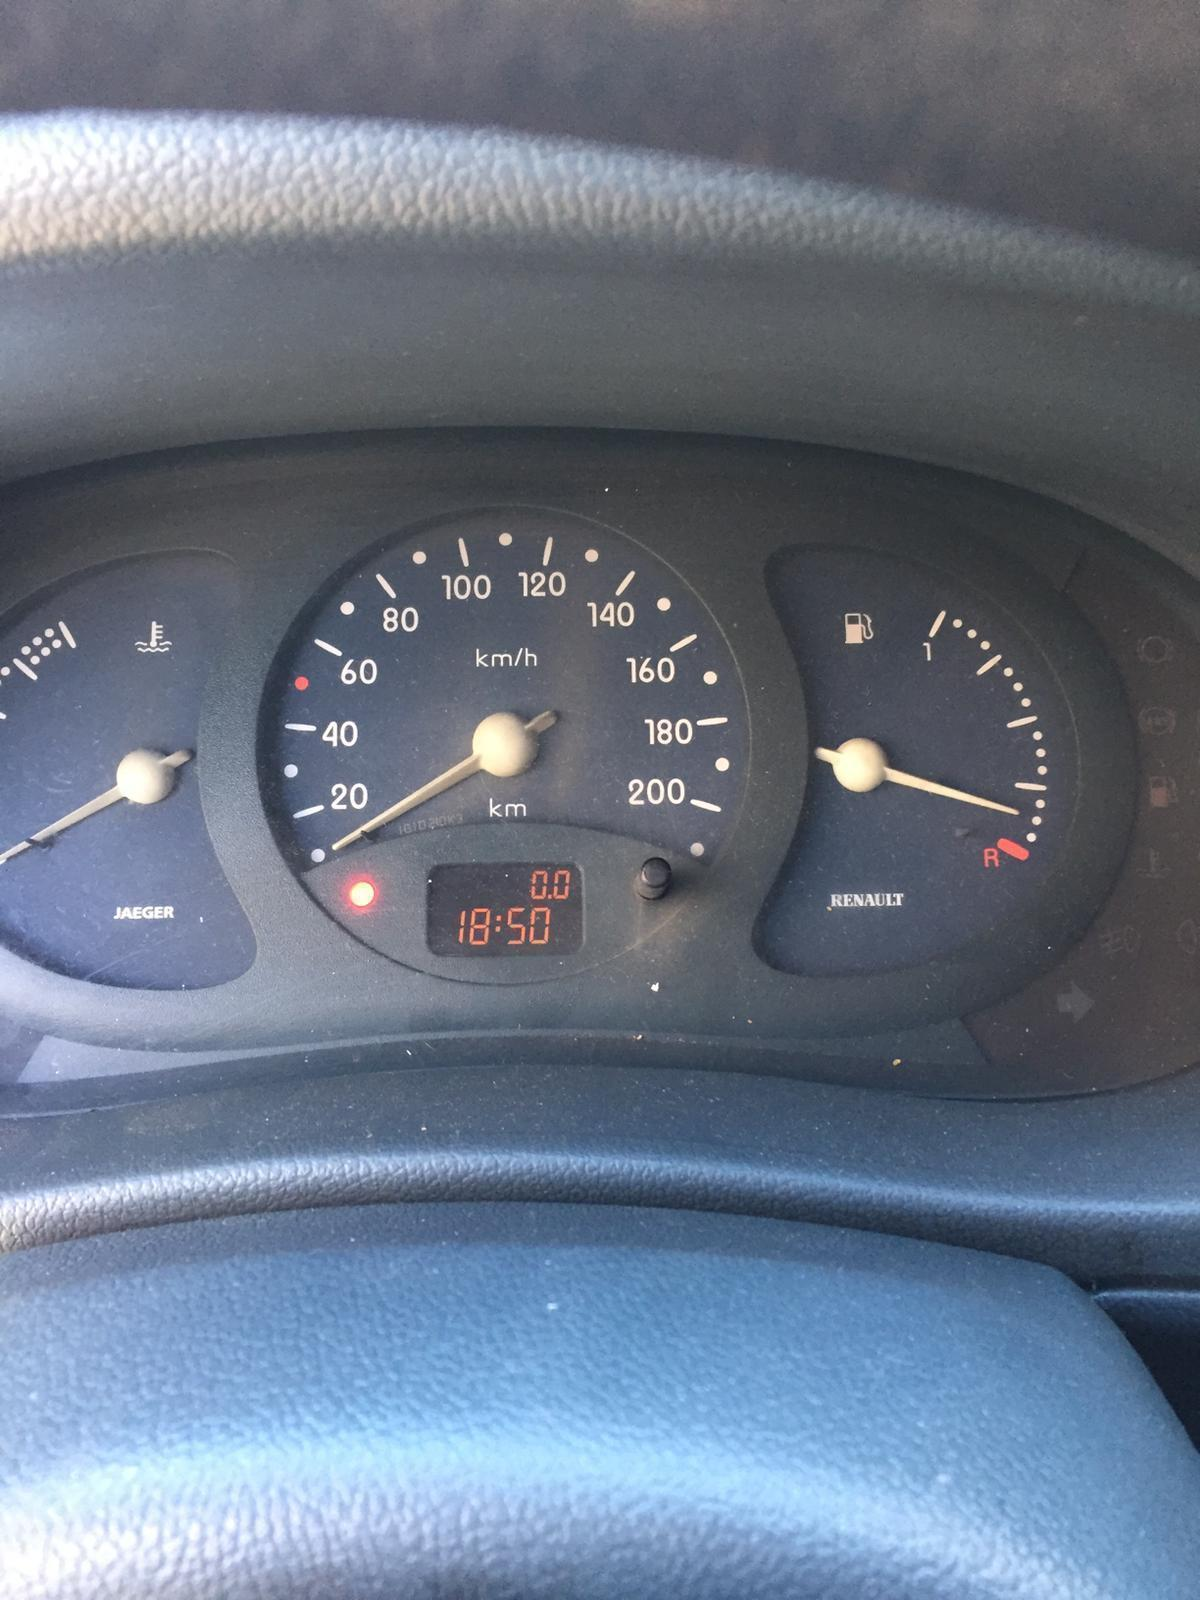,: (547, 894, 552, 900)
0: (528, 906, 551, 945), (552, 869, 570, 900), (529, 871, 547, 900)
1: (456, 910, 465, 944)
5: (505, 906, 526, 945)
8: (468, 907, 490, 945)
X: (494, 913, 502, 934)
odometer: (424, 858, 586, 959)
